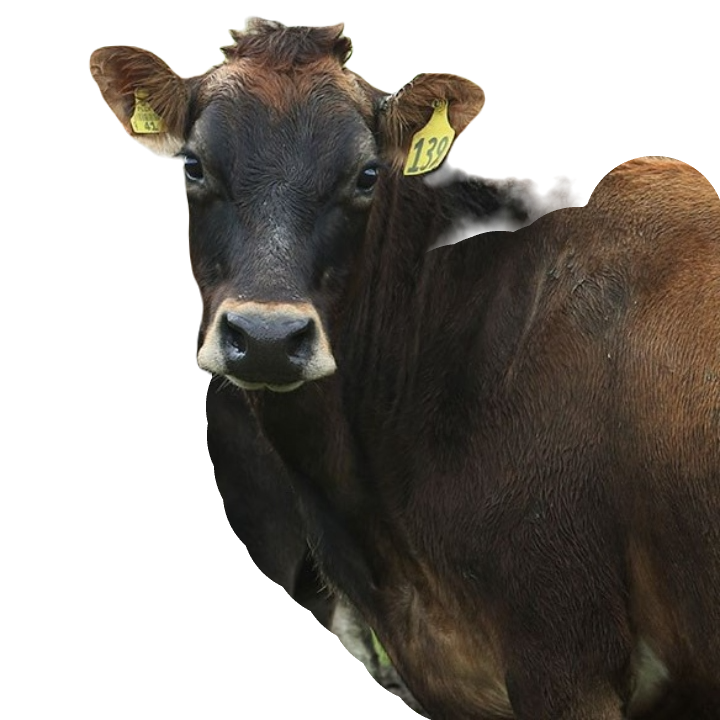Cow: (86, 16, 719, 719)
